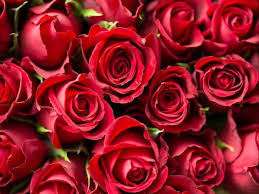rose: (85, 28, 155, 95), (43, 80, 112, 139), (194, 54, 257, 110), (105, 132, 160, 192), (174, 139, 225, 194), (24, 11, 79, 61), (154, 73, 198, 132), (151, 2, 202, 50), (214, 5, 257, 44), (1, 63, 27, 118), (31, 166, 81, 194), (1, 129, 23, 184)
